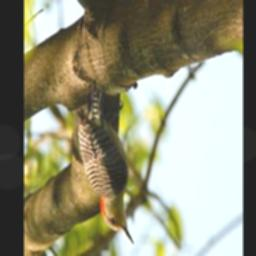Woodpecker: (78, 81, 135, 246)
